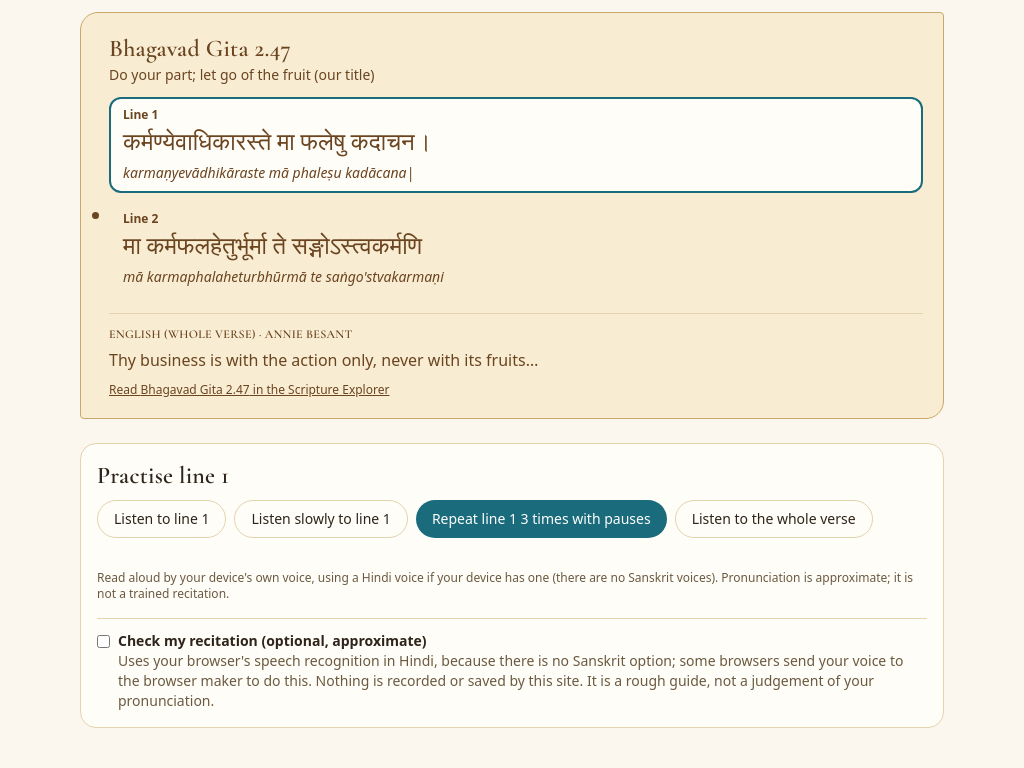
Test: Shloka Practice Studio › ignores a late result from an earlier line
(page scrolled)
Click the checkbox labelled "Check my recitation": (104, 642) [97,635,110,648]
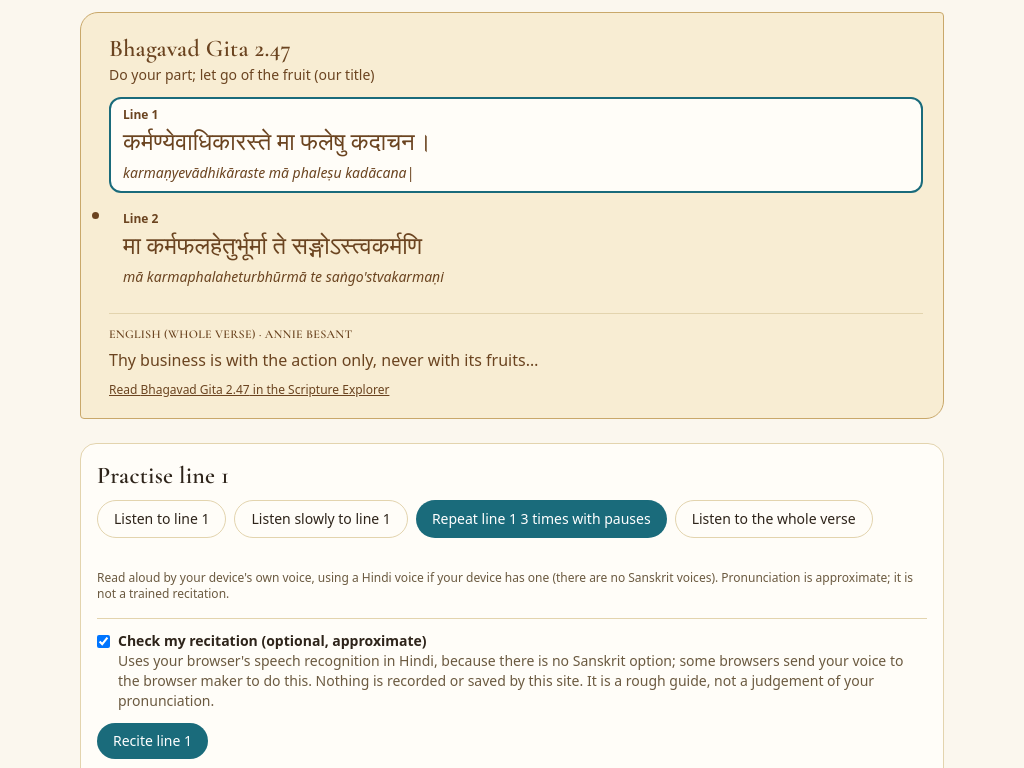
Click the button "Recite line 1": (152, 741) [97,723,208,759]
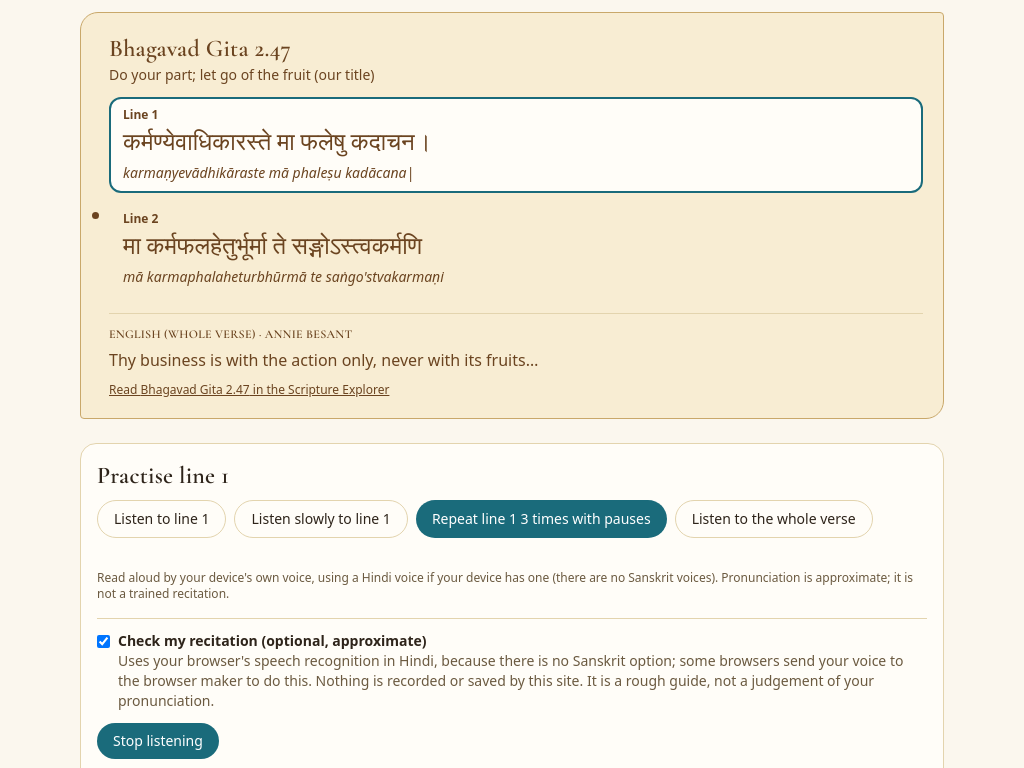
Click the button "Line 2": (273, 246) [109,201,923,297]
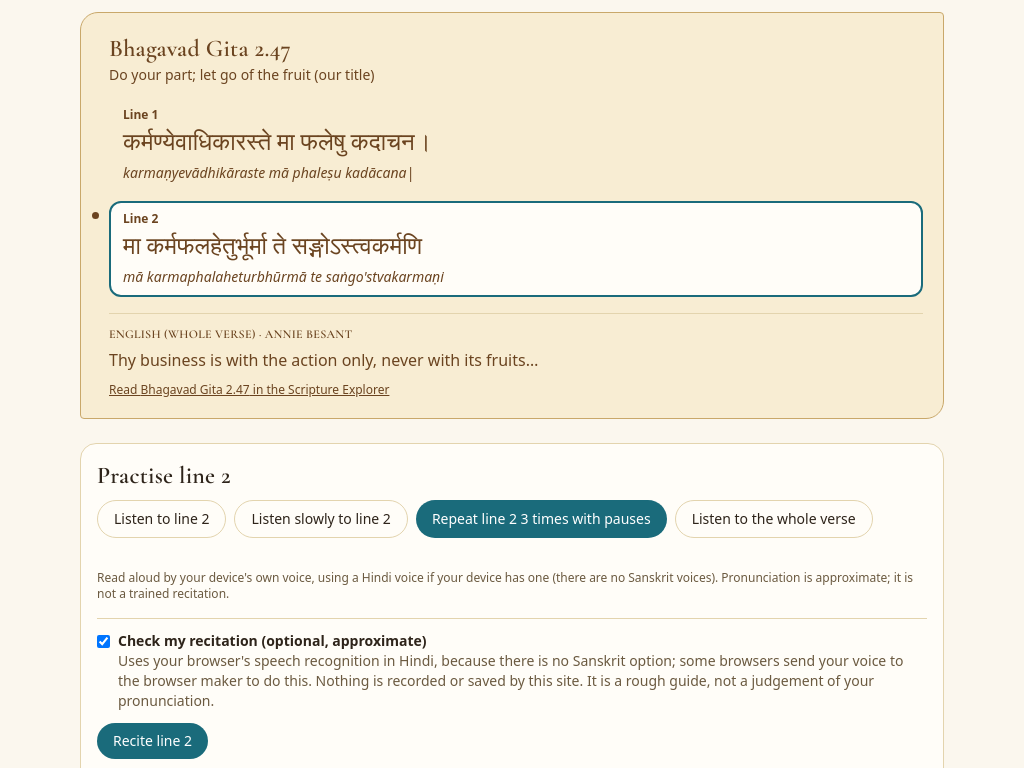
expect the button "Recite line 2" is shown: met, box [97,723,208,759]
